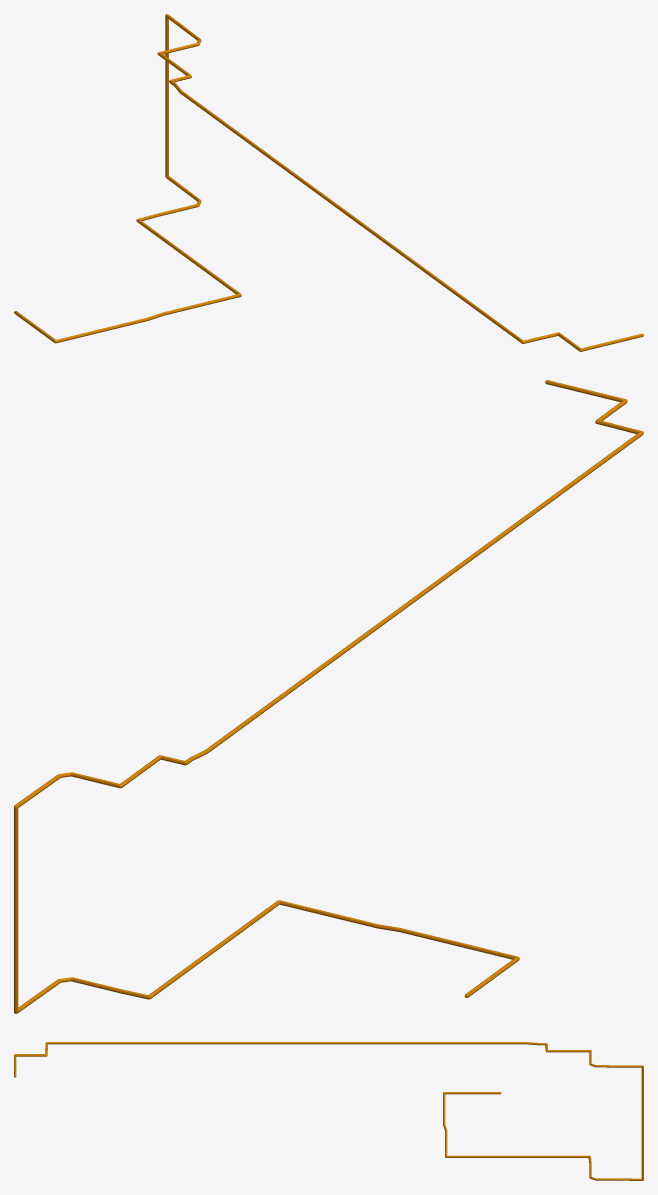
The picture shows the model from 3 angles, top to bottom: view 1: azimuth 30°, elevation 25°; view 2: azimuth 150°, elevation 25°; view 3: azimuth 270°, elevation 25°; orthographic projection. The views are drawn at different scales.
Size of the model in its own units: 1851 by 1020 by 5044.
